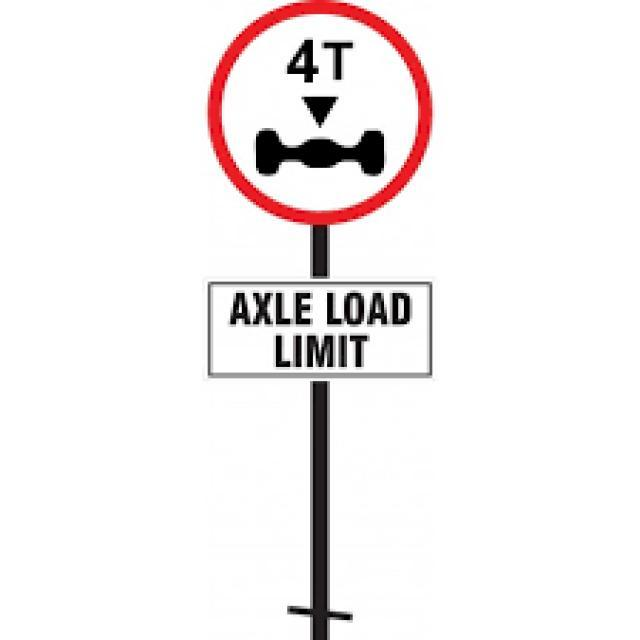axle load limit: (202, 3, 436, 231)
